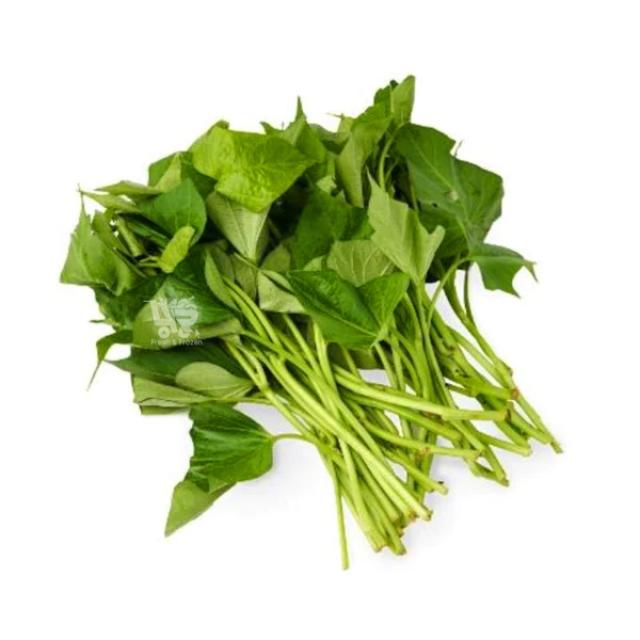organic: (59, 72, 566, 541)
